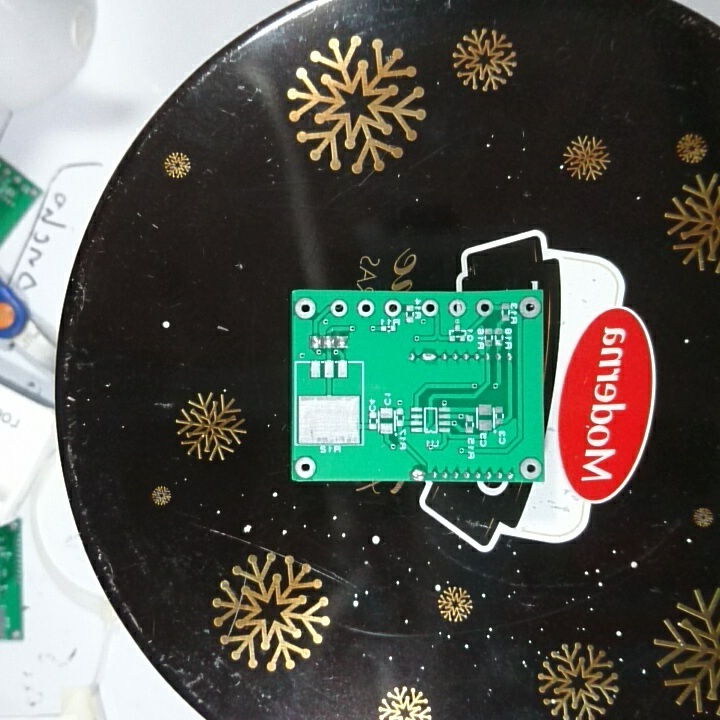F: (292, 455, 319, 480), (294, 297, 319, 321), (517, 456, 542, 480), (517, 296, 540, 320), (328, 298, 349, 320), (474, 298, 496, 318), (355, 298, 375, 319), (382, 298, 403, 318), (420, 298, 440, 318), (446, 298, 466, 318)
P: (408, 463, 429, 481), (419, 348, 437, 364)
